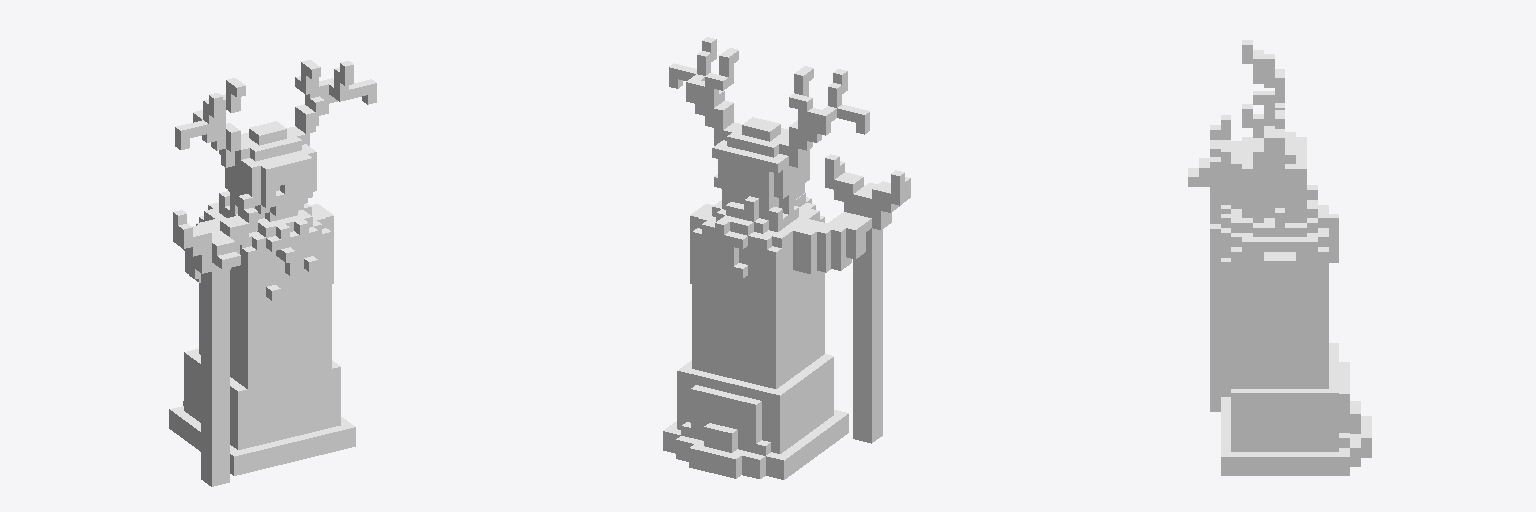
File: Odin.obj
3 views of the same model, side by side, from view 1: azimuth 30°, elevation 25°; view 2: azimuth 150°, elevation 25°; view 3: azimuth 270°, elevation 25° (orthographic).
Parts seen in each view (by area): view 1: Odin; view 2: Odin; view 3: Odin.
Part boxes in pixels (x1,y1,x2,y2): Odin: (169,60,376,486); Odin: (663,37,910,479); Odin: (1188,40,1371,475).
Size of the model in its own units: 23 by 38 by 17.